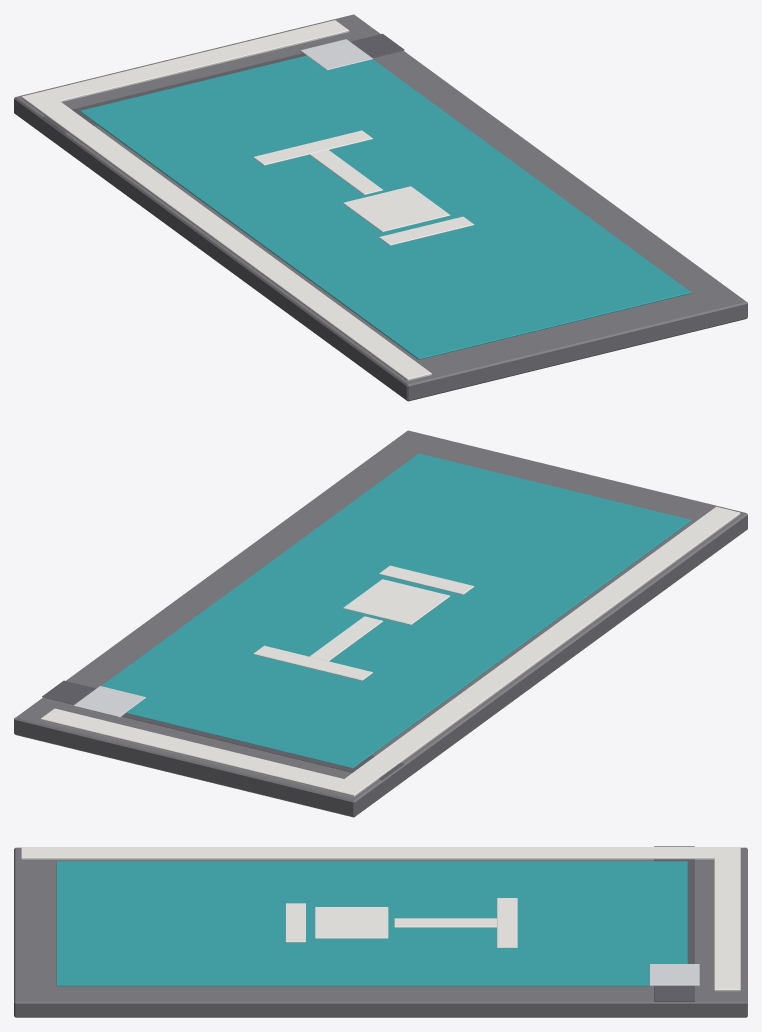
The model's file is motorway-services-and-truck-park-disabled-bay-tile-b95ef6e3__35951.glb.
3 renders of one model, top to bottom at view 1: azimuth 30°, elevation 25°; view 2: azimuth 150°, elevation 25°; view 3: azimuth 270°, elevation 25°, orthographic. The views are drawn at different scales.
Parts seen in each view (by area): view 1: disabled-bay-tile; view 2: disabled-bay-tile; view 3: disabled-bay-tile.
Part boxes in pixels (bbox=[...]): disabled-bay-tile: bbox=[14, 14, 747, 401]; disabled-bay-tile: bbox=[14, 430, 747, 817]; disabled-bay-tile: bbox=[14, 846, 747, 1017].
Bounding box in the file's own units: 2.5 × 0.1362 × 5.
